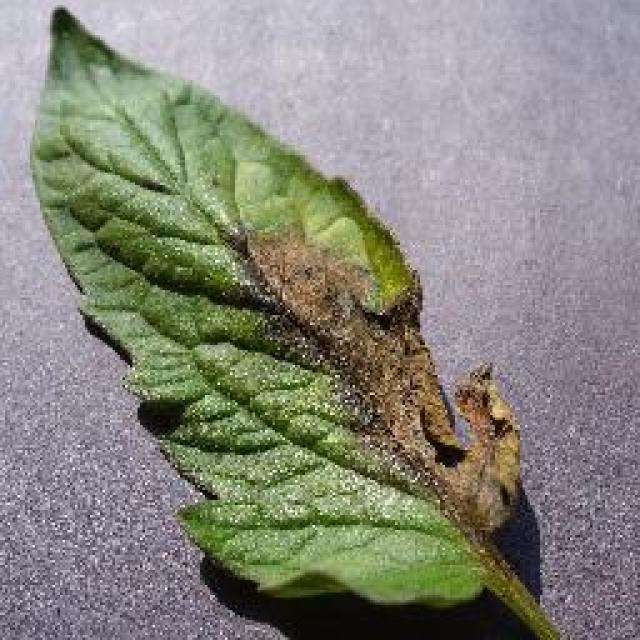Tomato___Late_blight: (30, 9, 528, 615)
